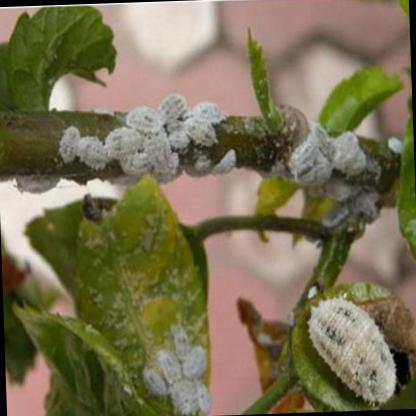mealy bug: (307, 296, 396, 402), (105, 126, 142, 159), (184, 117, 216, 150), (76, 134, 106, 169), (126, 106, 162, 133), (184, 102, 229, 122), (143, 133, 172, 164), (290, 143, 318, 172), (331, 133, 359, 161), (301, 162, 332, 186), (59, 127, 79, 164), (159, 350, 182, 382), (158, 94, 186, 120), (185, 346, 206, 377), (121, 154, 151, 174), (198, 379, 210, 413)
